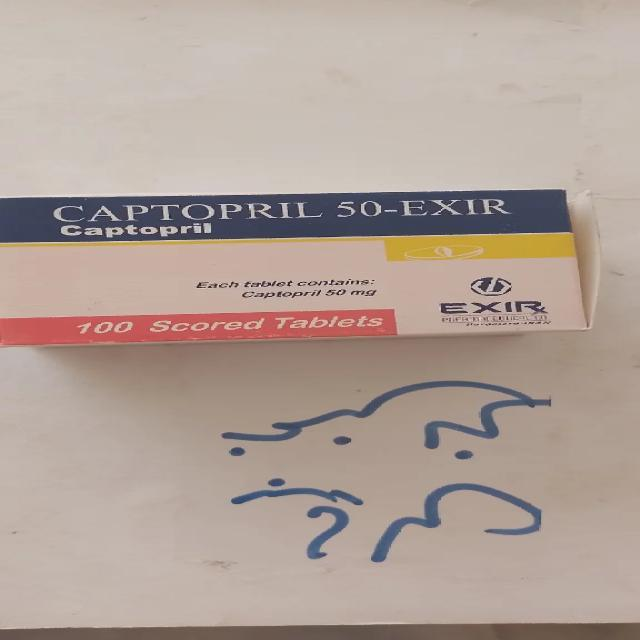drug-name: (54, 197, 514, 222)
